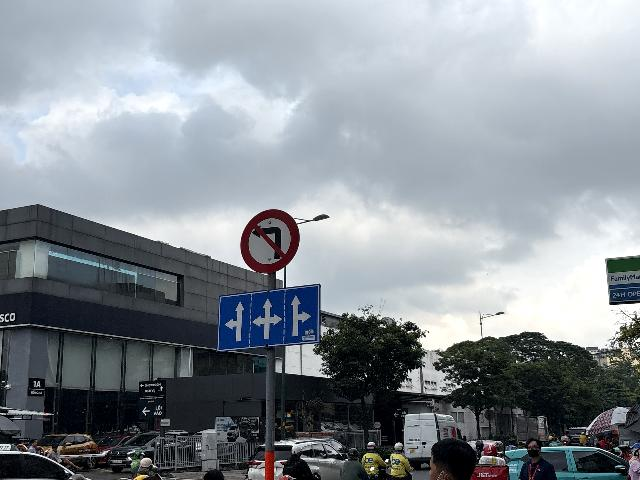cam-re-trai: (240, 208, 300, 274)
